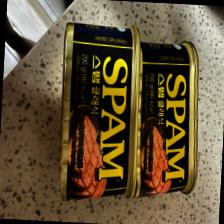spam: (54, 22, 144, 206), (130, 38, 204, 203)
